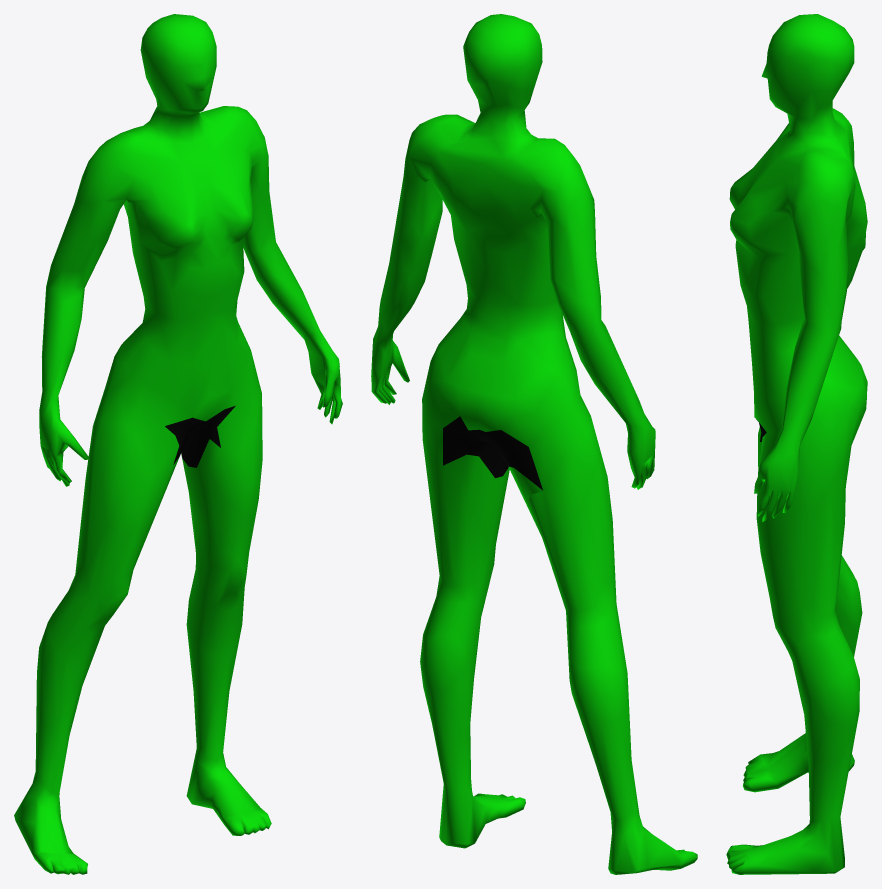
Rendered from Mannequin_high_modelpose.fbx.
3 renders of one model, left to right at view 1: azimuth 30°, elevation 25°; view 2: azimuth 150°, elevation 25°; view 3: azimuth 270°, elevation 25°, orthographic. The views are drawn at different scales.
Parts seen in each view (by area): view 1: mannequin_high_modelpose; view 2: mannequin_high_modelpose; view 3: mannequin_high_modelpose.
Boxes of the visible parts, <box> form: mannequin_high_modelpose: <box>14,14,342,874</box>; mannequin_high_modelpose: <box>371,14,697,874</box>; mannequin_high_modelpose: <box>726,14,867,874</box>.
Size of the model in its own units: 6820 by 17325 by 2659.
